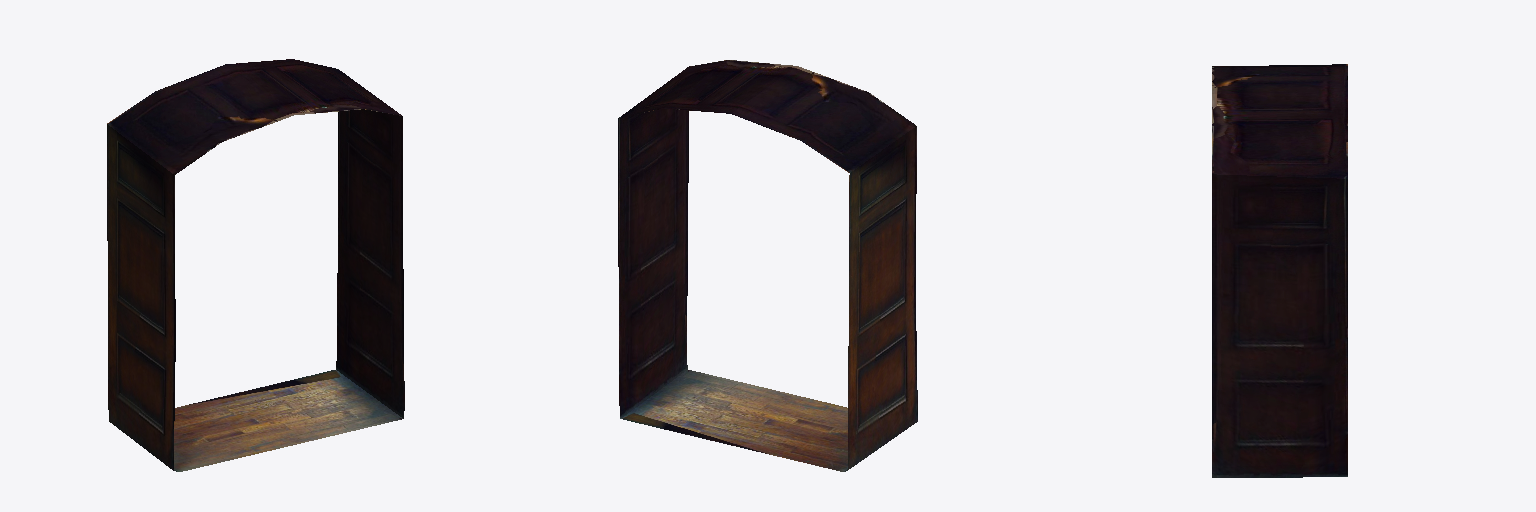
The picture shows the model from 3 angles: view 1: azimuth 30°, elevation 25°; view 2: azimuth 150°, elevation 25°; view 3: azimuth 270°, elevation 25°; orthographic projection.
Visible parts, largest first — view 1: Kitchen_GEO_GRP1_Kitchen_88; view 2: Kitchen_GEO_GRP1_Kitchen_88; view 3: Kitchen_GEO_GRP1_Kitchen_88.
Boxes of the visible parts, x1,y1,x2,y2 form: Kitchen_GEO_GRP1_Kitchen_88: [107, 59, 404, 471]; Kitchen_GEO_GRP1_Kitchen_88: [618, 60, 917, 471]; Kitchen_GEO_GRP1_Kitchen_88: [1212, 64, 1347, 477].
Size of the model in its own units: 1.88 by 2.57 by 0.9508.
1 materials, 1 textured.